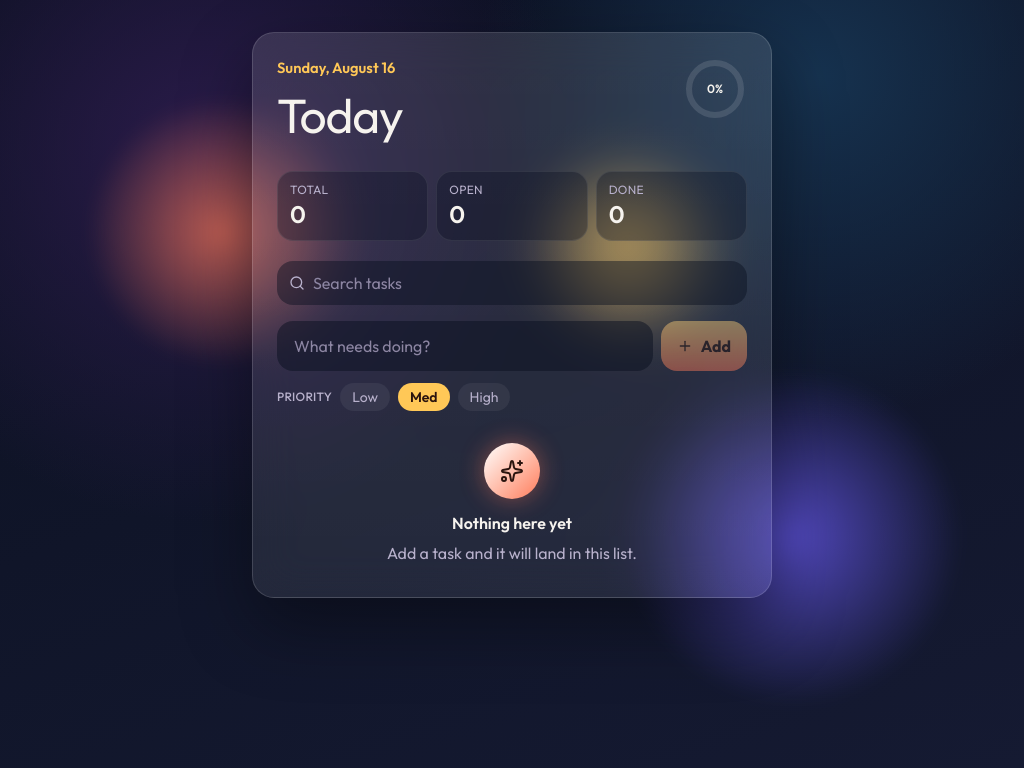
adds a todo from the form
Type "Buy milk" into the field with placeholder "What needs doing?" at (465, 346), box 277,321 -> 653,371
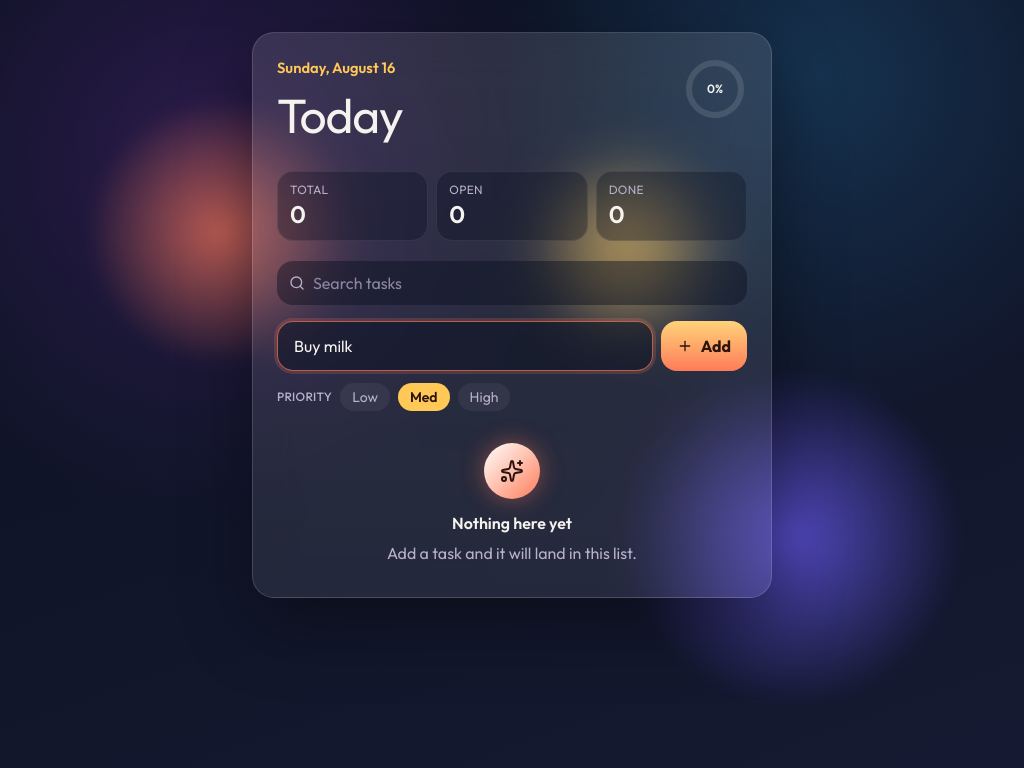
Click the button "Add" at (704, 346), box 661,321 -> 747,371
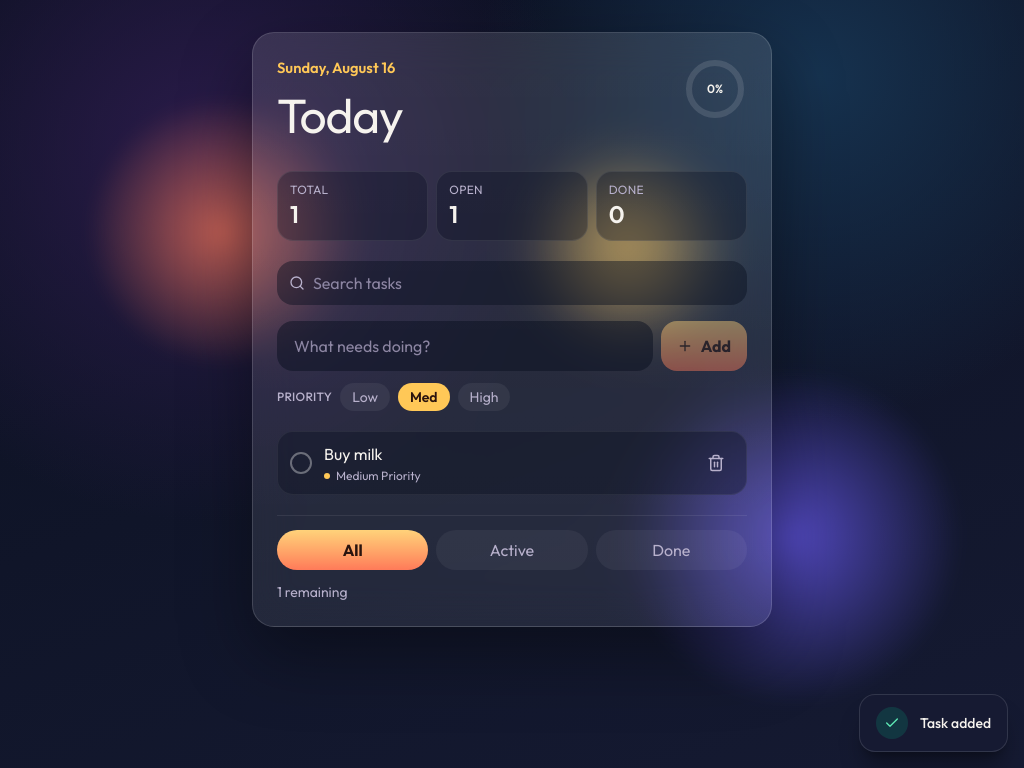
Now the field showing "Buy milk" is shown, box 324,442 -> 686,466
Now the text "1 remaining" is shown, box 277,582 -> 348,602
